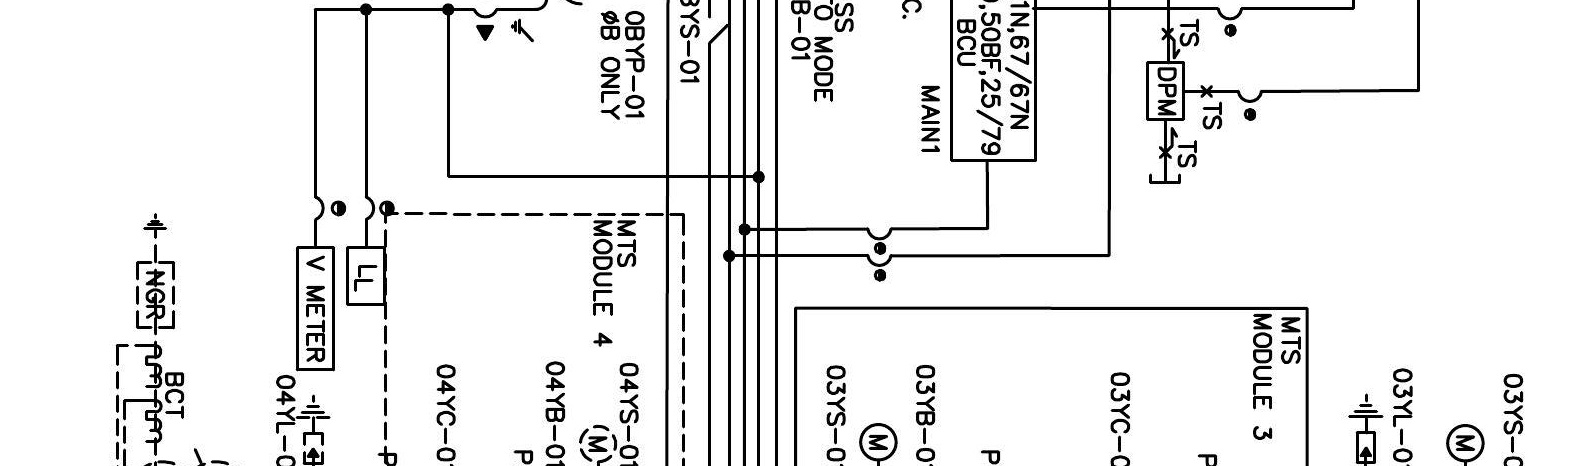115_ds: (707, 14, 728, 44)
115_la: (1346, 391, 1385, 465)
DPM: (1145, 60, 1186, 122)
LL: (345, 245, 386, 307)
v_m_digital: (295, 245, 336, 372)
